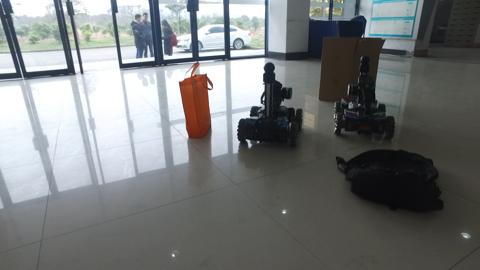bag: (332, 154, 442, 212), (178, 64, 216, 140)
chariot: (236, 63, 304, 147), (333, 56, 397, 142)
